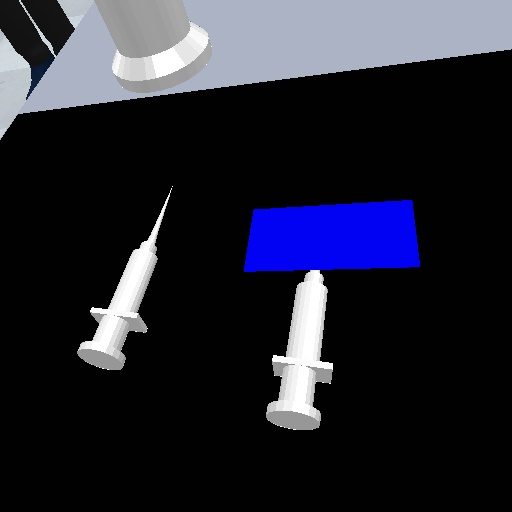jeringuilla: (57, 179, 178, 376), (263, 266, 343, 435)
